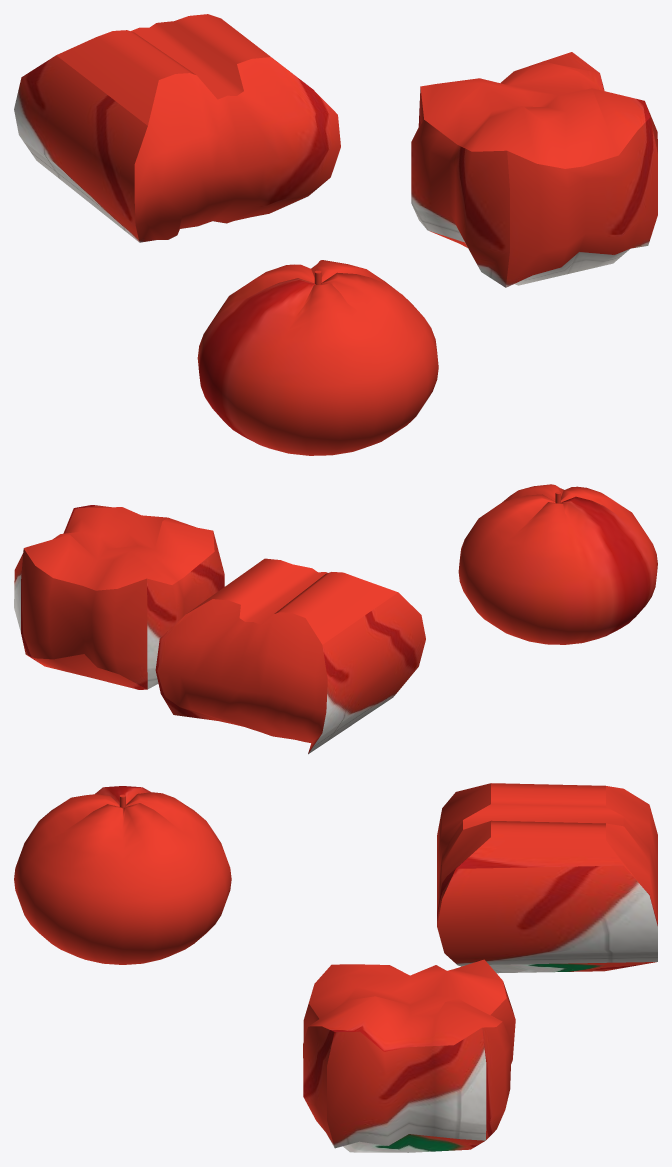
File: tomato.obj
3 views of the same model, one above another, from view 1: azimuth 30°, elevation 25°; view 2: azimuth 150°, elevation 25°; view 3: azimuth 270°, elevation 25° (orthographic). The views are drawn at different scales.
Parts seen in each view (by area): view 1: pCube1, pCube2, pSphere1; view 2: pCube1, pCube2, pSphere1; view 3: pCube1, pCube2, pSphere1.
Boxes of the visible parts, x1,y1,x2,y2 form: pCube1: (14, 14, 340, 242); pCube2: (411, 52, 657, 287); pSphere1: (197, 260, 438, 455); pCube1: (155, 558, 425, 754); pCube2: (14, 505, 224, 689); pSphere1: (458, 484, 657, 644); pCube1: (437, 783, 657, 973); pCube2: (303, 959, 515, 1152); pSphere1: (14, 786, 231, 964).
Bounding box in the file's own units: 10.07 × 3.78 × 10.59.
1 material, 1 textured.
